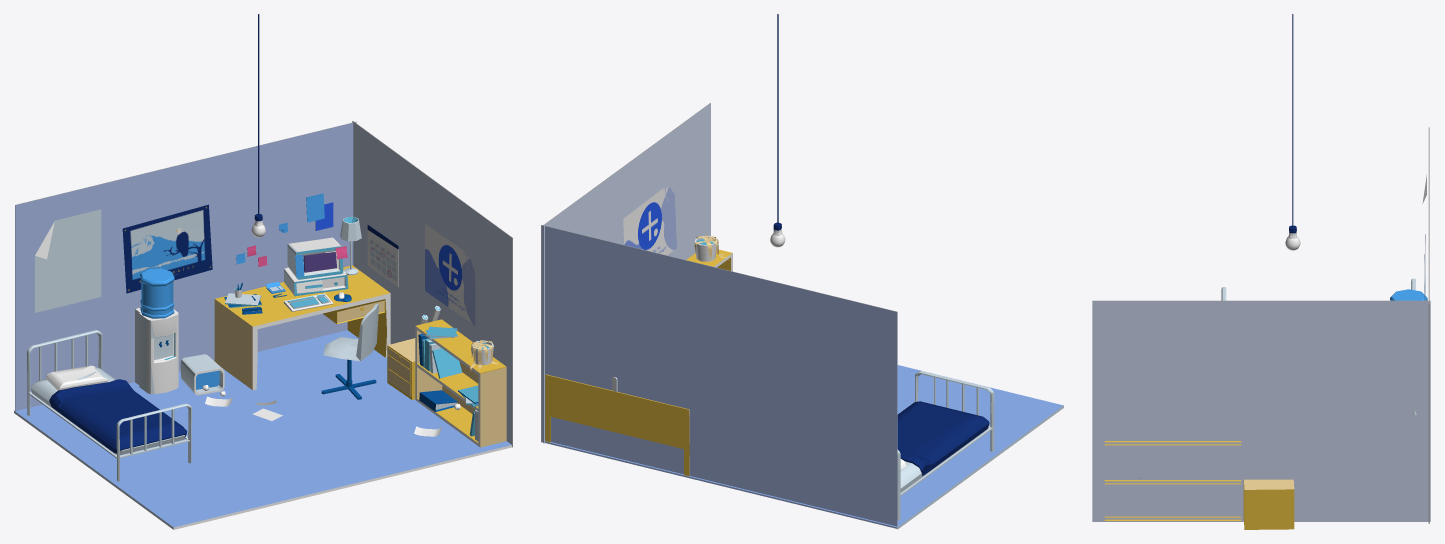
File: OfficeInteriorExport.fbx
3 views of the same model, side by side, from view 1: azimuth 30°, elevation 25°; view 2: azimuth 150°, elevation 25°; view 3: azimuth 270°, elevation 25° (orthographic). The views are drawn at different scales.
Visible parts, largest first — view 1: backWall_OBJ, floor_OBJ, sideWall_OBJ, desk_OBJ, backWall_OBJ1, blanket_OBJ, bigPad_OBJ2, bigPad_OBJ1, waterBase_OBJ, pCube68, chair_OBJ, waterTank_OBJ (+17 smaller); view 2: backWall_OBJ, sideWall_OBJ, floor_OBJ, desk_OBJ, blanket_OBJ, bigPad_OBJ1, pCube95; view 3: sideWall_OBJ, cabinet_OBJ, backWall_OBJ, pCube70, pCube102, pCube104, pCylinder20.
Part boxes in pixels (<box>): backWall_OBJ: <box>15,121,356,410</box>; floor_OBJ: <box>14,330,511,529</box>; sideWall_OBJ: <box>352,121,512,447</box>; desk_OBJ: <box>214,265,390,390</box>; backWall_OBJ1: <box>35,209,101,312</box>; blanket_OBJ: <box>49,379,186,453</box>; bigPad_OBJ2: <box>122,204,212,293</box>; bigPad_OBJ1: <box>425,224,475,325</box>; waterBase_OBJ: <box>135,308,178,394</box>; pCube68: <box>478,367,506,447</box>; chair_OBJ: <box>321,303,379,399</box>; waterTank_OBJ: <box>140,268,174,318</box>; backWall_OBJ: <box>541,225,897,528</box>; sideWall_OBJ: <box>543,103,710,443</box>; floor_OBJ: <box>544,365,1063,529</box>; desk_OBJ: <box>545,374,689,476</box>; blanket_OBJ: <box>897,401,989,476</box>; bigPad_OBJ1: <box>623,187,676,255</box>; pCube95: <box>915,371,994,451</box>; sideWall_OBJ: <box>1092,300,1430,521</box>; cabinet_OBJ: <box>1243,479,1294,529</box>; backWall_OBJ: <box>1428,127,1429,523</box>; pCube70: <box>1104,516,1241,520</box>; pCube102: <box>1104,441,1241,445</box>; pCube104: <box>1104,480,1241,484</box>; pCylinder20: <box>1292,14,1293,227</box>.
Size of the model in its own units: 582 by 625 by 450.
